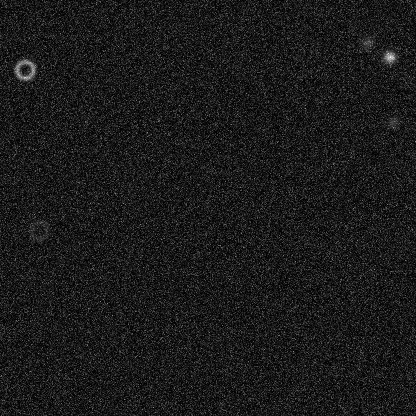Ring: (26, 218, 50, 242), (12, 57, 36, 81)
Spot: (381, 48, 397, 64), (384, 114, 400, 130), (359, 34, 375, 50)
